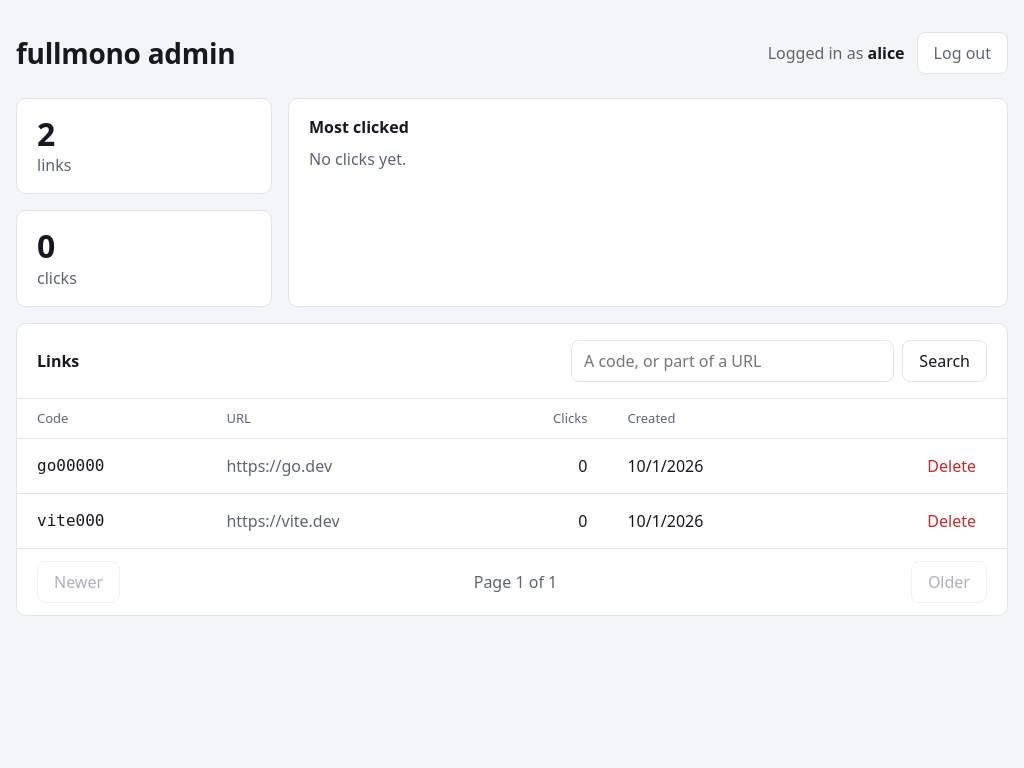
Scenario: searches, and deletes a link once confirmed
This screenshot has width=1024, height=768.
Type "go.dev" into the search field named "Search links" at [733, 361], box top-left (571, 340), bottom-right (894, 382)
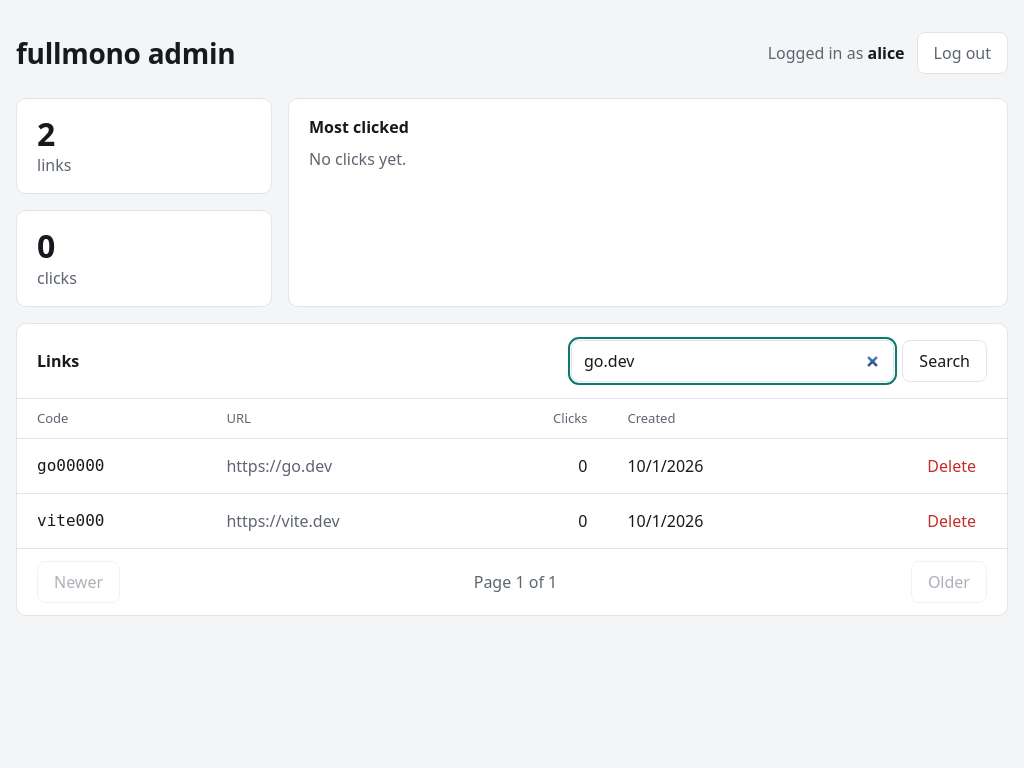
Click the button "Search" at [945, 361], box top-left (902, 340), bottom-right (987, 382)
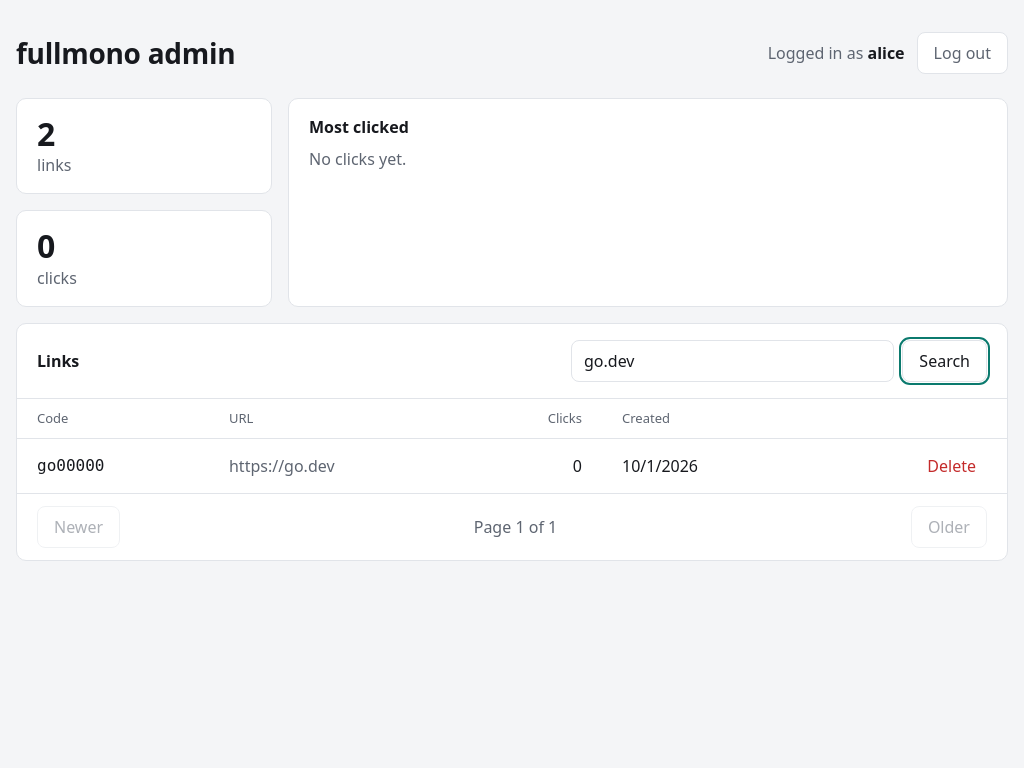
Click the button with aria-label "Delete go00000" at [952, 466], box top-left (916, 449), bottom-right (987, 483)
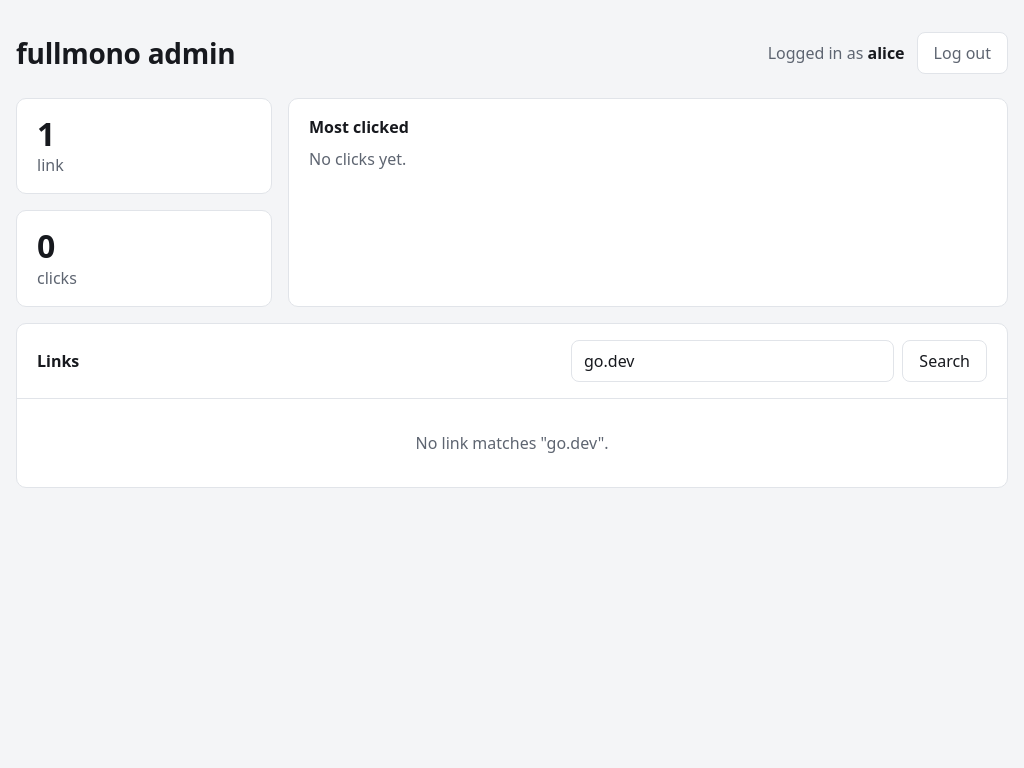
Now the text "No link matches \"go.dev\"." is shown, box top-left (17, 398), bottom-right (1007, 487)
